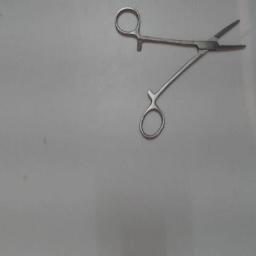Mayo Needle Holder: (112, 3, 252, 145)
